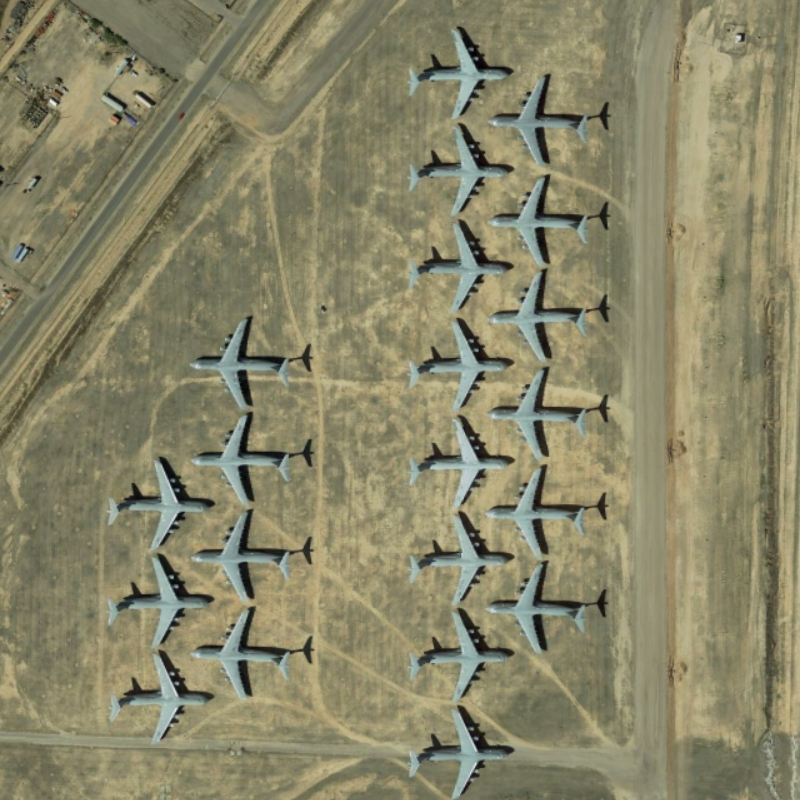A4: (485, 268, 619, 369), (481, 363, 615, 463), (190, 408, 311, 515), (480, 460, 604, 564), (96, 648, 219, 750), (403, 410, 522, 513), (186, 316, 315, 411), (189, 606, 319, 699), (96, 453, 214, 555), (403, 119, 525, 216), (97, 550, 216, 649), (402, 18, 514, 123), (480, 171, 595, 272), (189, 508, 305, 606), (402, 604, 515, 704), (485, 559, 599, 658), (488, 70, 598, 172), (405, 216, 516, 315), (395, 316, 515, 407), (400, 709, 517, 800), (410, 509, 515, 607)
